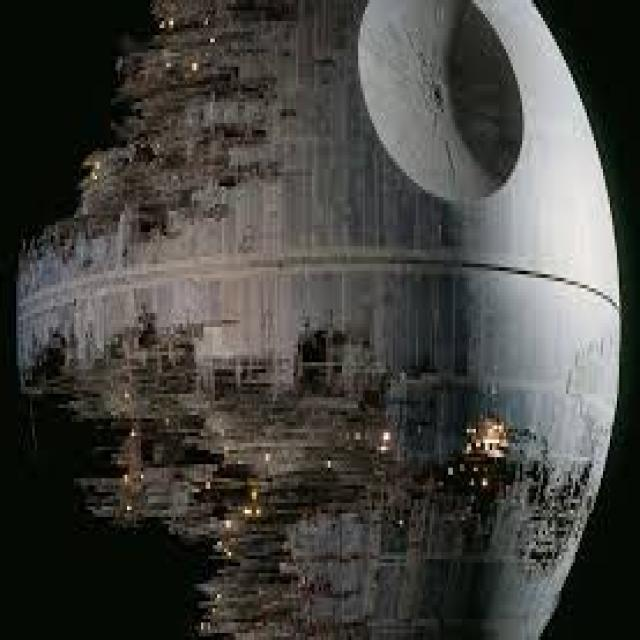death-stars: (18, 0, 622, 640)
